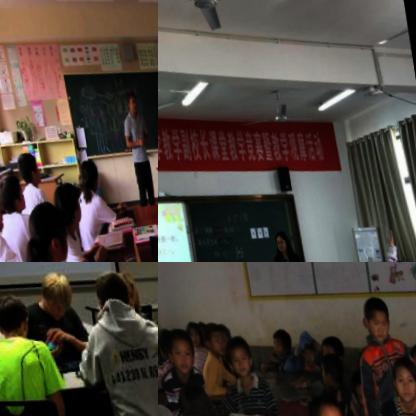head: (24, 195, 72, 262), (47, 175, 87, 238), (33, 262, 74, 320), (88, 262, 131, 308), (0, 280, 32, 340), (220, 326, 257, 376), (173, 373, 215, 416), (358, 287, 394, 336), (163, 326, 198, 374), (306, 381, 348, 416), (108, 262, 140, 307), (0, 168, 27, 221), (12, 147, 43, 190), (389, 347, 416, 394), (315, 322, 346, 361), (75, 152, 102, 196), (199, 314, 227, 355), (317, 344, 342, 382), (347, 361, 370, 402), (295, 327, 319, 362), (266, 321, 291, 354), (122, 83, 140, 113), (158, 325, 174, 354), (184, 316, 201, 343), (271, 224, 288, 248), (406, 331, 416, 366), (362, 256, 385, 262)
